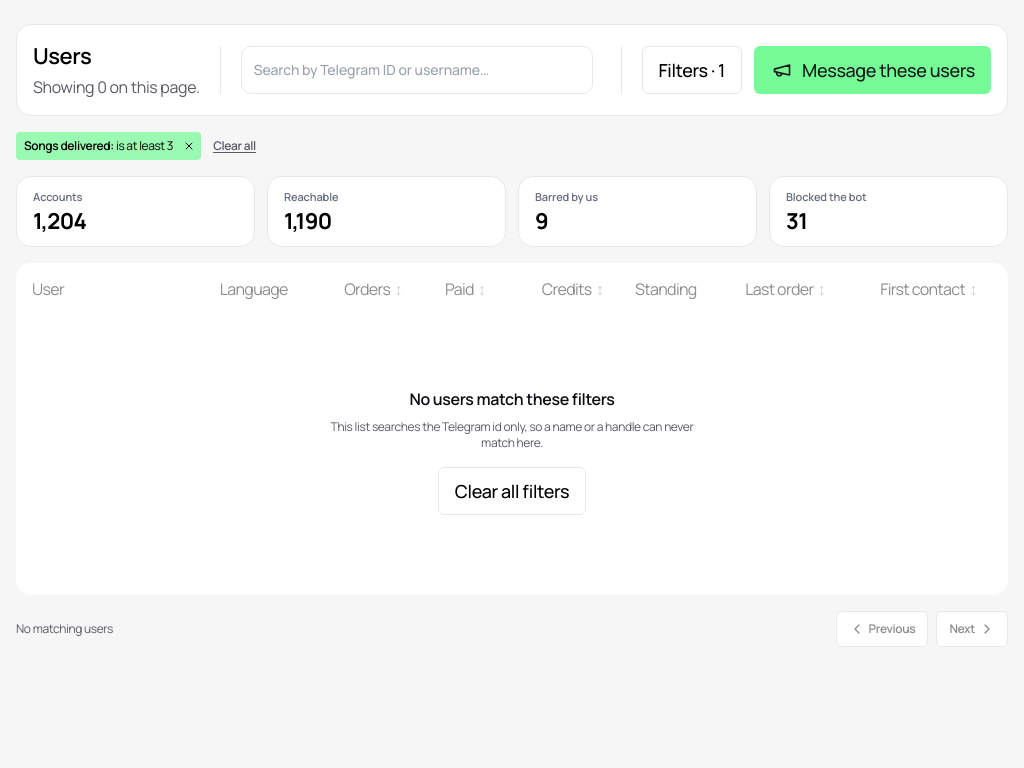
Test: UsersScreen — editing the builder writes the URL › round-trips an edit back into ?segment= as the same document
Click the button named "Remove filter Songs delivered: is at least 3": (189, 146) [181,138,197,154]
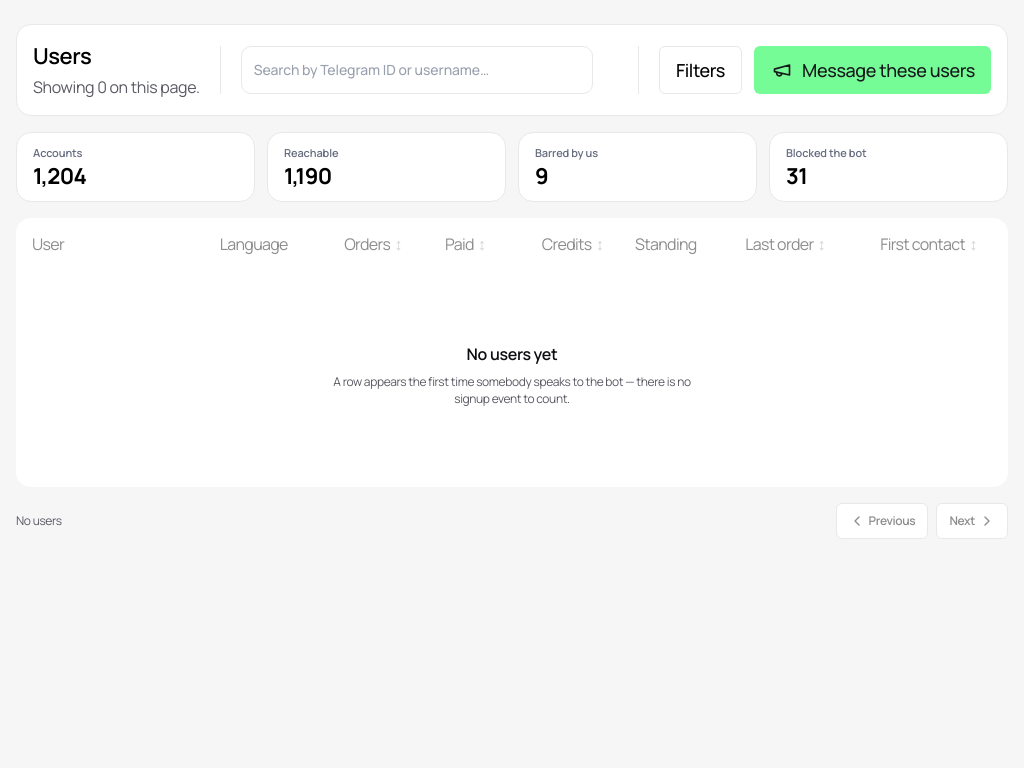
expect the button "Filters" is shown: met, box [659,46,742,94]
